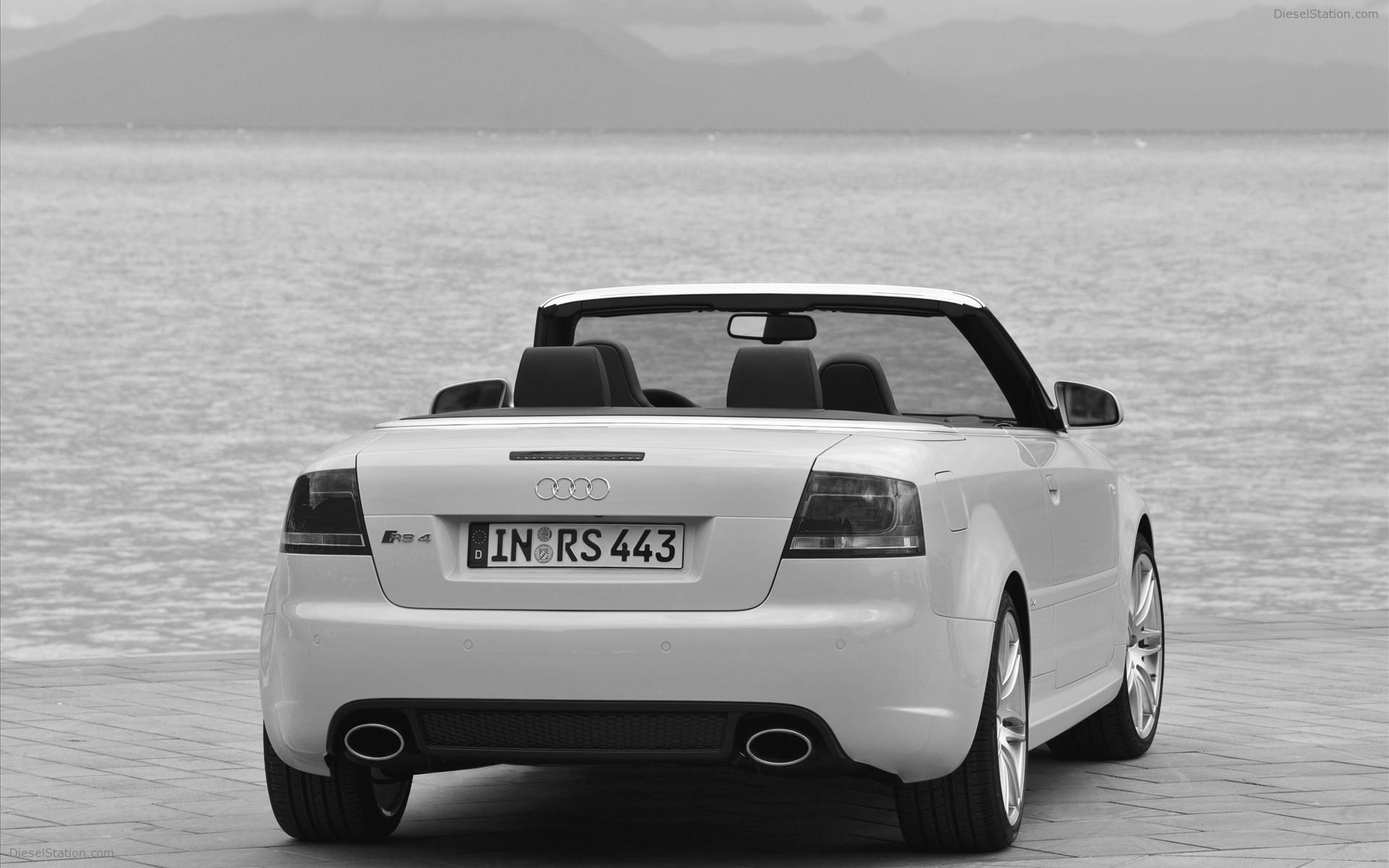car: (260, 281, 1172, 859)
